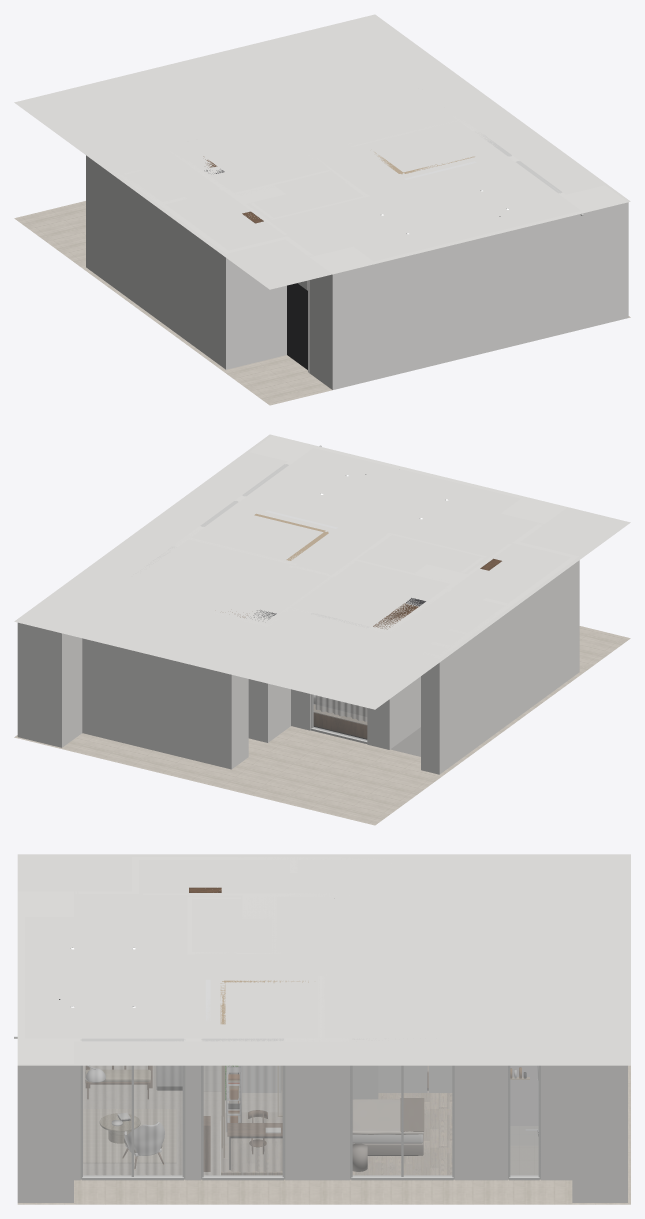
The model's file is apartment_lm-DhoDoeRj.glb.
3 views of the same model, one above another, from view 1: azimuth 30°, elevation 25°; view 2: azimuth 150°, elevation 25°; view 3: azimuth 270°, elevation 25° (orthographic). The views are drawn at different scales.
Parts seen in each view (by area): view 1: ceiling, wall_38, wall_10, wall_36, floor_tile, wall_37, wall_33, door_entrance, wall_34; view 2: ceiling, floor_tile, wall_10, wall_1, wall_0, wall_9, win_bedB_glass, wall_14, wall_6, wall_2, wall_12, wall_36 (+6 smaller); view 3: ceiling, floor_tile, win_east3_glass, curtain_east_living, win_east1_glass, wall_37, win_east2_glass, curtain_east_studio, wall_17, wall_0, wall_5, floor_oak_master (+27 smaller).
Boxes of the visible parts, bbox=[...] form: ceiling: bbox=[14, 14, 630, 289]; wall_38: bbox=[374, 211, 584, 379]; wall_10: bbox=[89, 158, 231, 369]; wall_36: bbox=[309, 246, 376, 389]; floor_tile: bbox=[14, 201, 630, 405]; wall_37: bbox=[566, 185, 628, 327]; wall_33: bbox=[229, 236, 289, 368]; door_entrance: bbox=[287, 283, 307, 369]; wall_34: bbox=[558, 192, 589, 328]; ceiling: bbox=[14, 434, 630, 709]; floor_tile: bbox=[14, 626, 630, 825]; wall_10: bbox=[438, 555, 579, 771]; wall_1: bbox=[82, 638, 234, 769]; wall_0: bbox=[17, 622, 82, 747]; wall_9: bbox=[421, 652, 442, 774]; win_bedB_glass: bbox=[313, 695, 366, 740]; wall_14: bbox=[388, 588, 450, 746]; wall_6: bbox=[212, 611, 270, 742]; wall_2: bbox=[230, 640, 248, 766]; wall_12: bbox=[367, 626, 392, 749]; wall_36: bbox=[500, 496, 567, 524]; ceiling: bbox=[17, 854, 630, 1065]; floor_tile: bbox=[17, 1065, 630, 1204]; win_east3_glass: bbox=[83, 1066, 182, 1176]; curtain_east_living: bbox=[83, 1066, 182, 1174]; win_east1_glass: bbox=[353, 1066, 451, 1176]; wall_37: bbox=[17, 1041, 73, 1202]; win_east2_glass: bbox=[204, 1066, 282, 1176]; curtain_east_studio: bbox=[204, 1066, 282, 1174]; wall_17: bbox=[285, 1038, 349, 1180]; wall_0: bbox=[572, 1065, 627, 1202]; wall_5: bbox=[454, 1039, 507, 1180]; floor_oak_master: bbox=[352, 1093, 452, 1175].
Size of the model in its own units: 9.79 by 3 by 12.09.
Materials: 112 (22 with a texture image).
